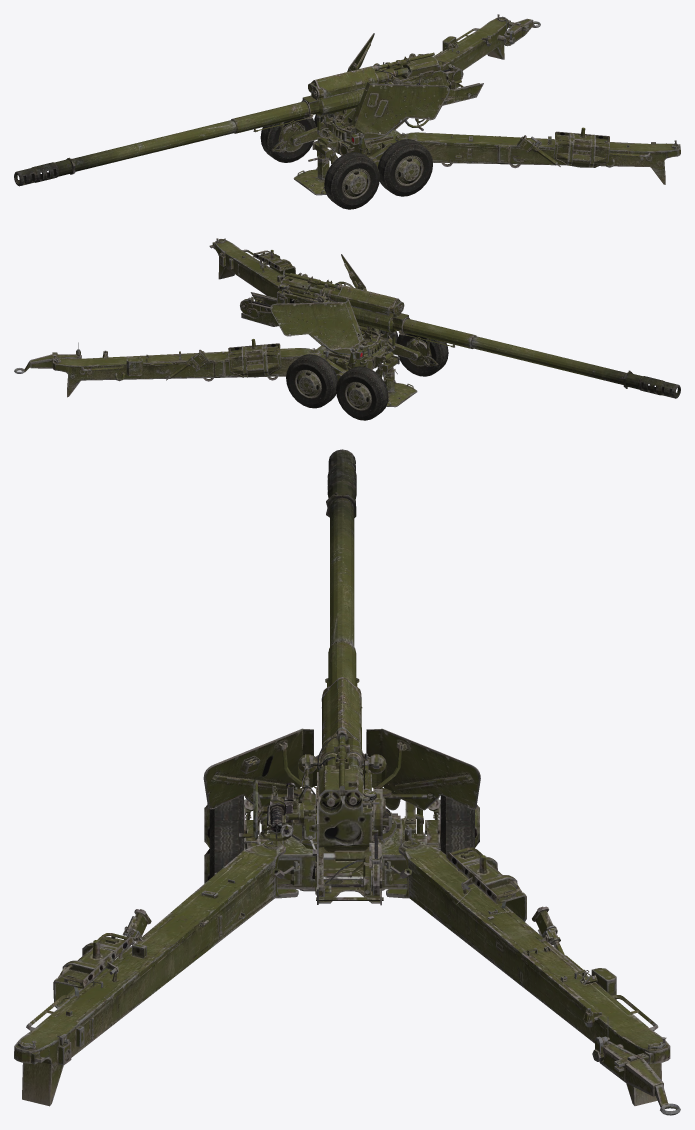
The model's file is giatsint.glb.
3 views of the same model, one above another, from view 1: azimuth 30°, elevation 25°; view 2: azimuth 150°, elevation 25°; view 3: azimuth 270°, elevation 25° (orthographic). The views are drawn at different scales.
Parts seen in each view (by area): view 1: body, trailR, barrel, cradle, trailL, w0R, w1R, w0L; view 2: body, trailL, barrel, cradle, w0L, trailR, w1L, w0R; view 3: body, trailL, trailR, barrel, cradle, w1R, w1L, w0R, w0L.
Boxes of the visible parts, left/top/right/bottom form: body: left=290, top=33, right=609, bottom=195; trailR: left=395, top=132, right=680, bottom=184; barrel: left=14, top=101, right=319, bottom=186; cradle: left=294, top=61, right=408, bottom=132; trailL: left=433, top=14, right=540, bottom=70; w0R: left=323, top=152, right=379, bottom=209; w1R: left=378, top=139, right=432, bottom=196; w0L: left=260, top=116, right=315, bottom=162; body: left=191, top=250, right=420, bottom=407; trailL: left=14, top=342, right=328, bottom=397; barrel: left=393, top=318, right=680, bottom=398; cradle: left=309, top=281, right=416, bottom=348; w0L: left=336, top=366, right=389, bottom=420; trailR: left=209, top=238, right=295, bottom=297; w1L: left=286, top=354, right=337, bottom=408; w0R: left=396, top=332, right=448, bottom=376; body: left=53, top=728, right=555, bottom=1008; trailL: left=384, top=827, right=680, bottom=1115; trailR: left=14, top=840, right=299, bottom=1106; barrel: left=325, top=449, right=359, bottom=686; cradle: left=288, top=677, right=396, bottom=817; w1R: left=204, top=820, right=245, bottom=883; w1L: left=439, top=820, right=474, bottom=855; w0R: left=204, top=795, right=251, bottom=847; w0L: left=433, top=795, right=479, bottom=847.
Bounding box in the file's own units: 14.42 × 2.35 × 7.48.
Materials: 1 (1 with a texture image).
